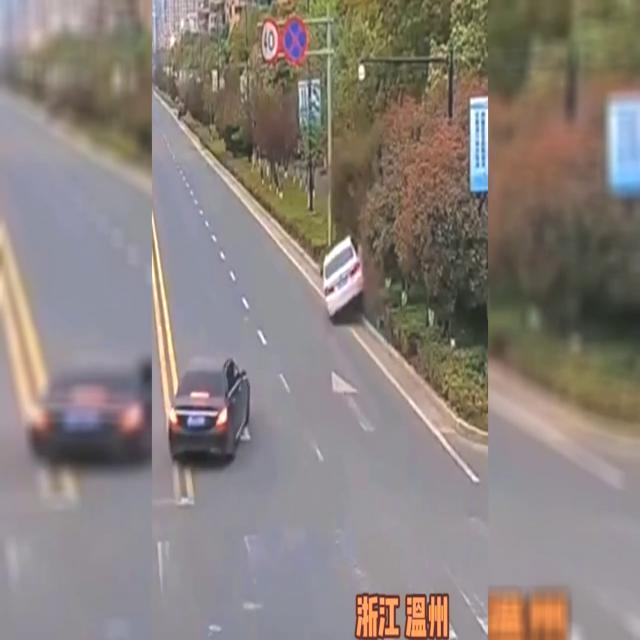accident: (315, 208, 379, 328)
